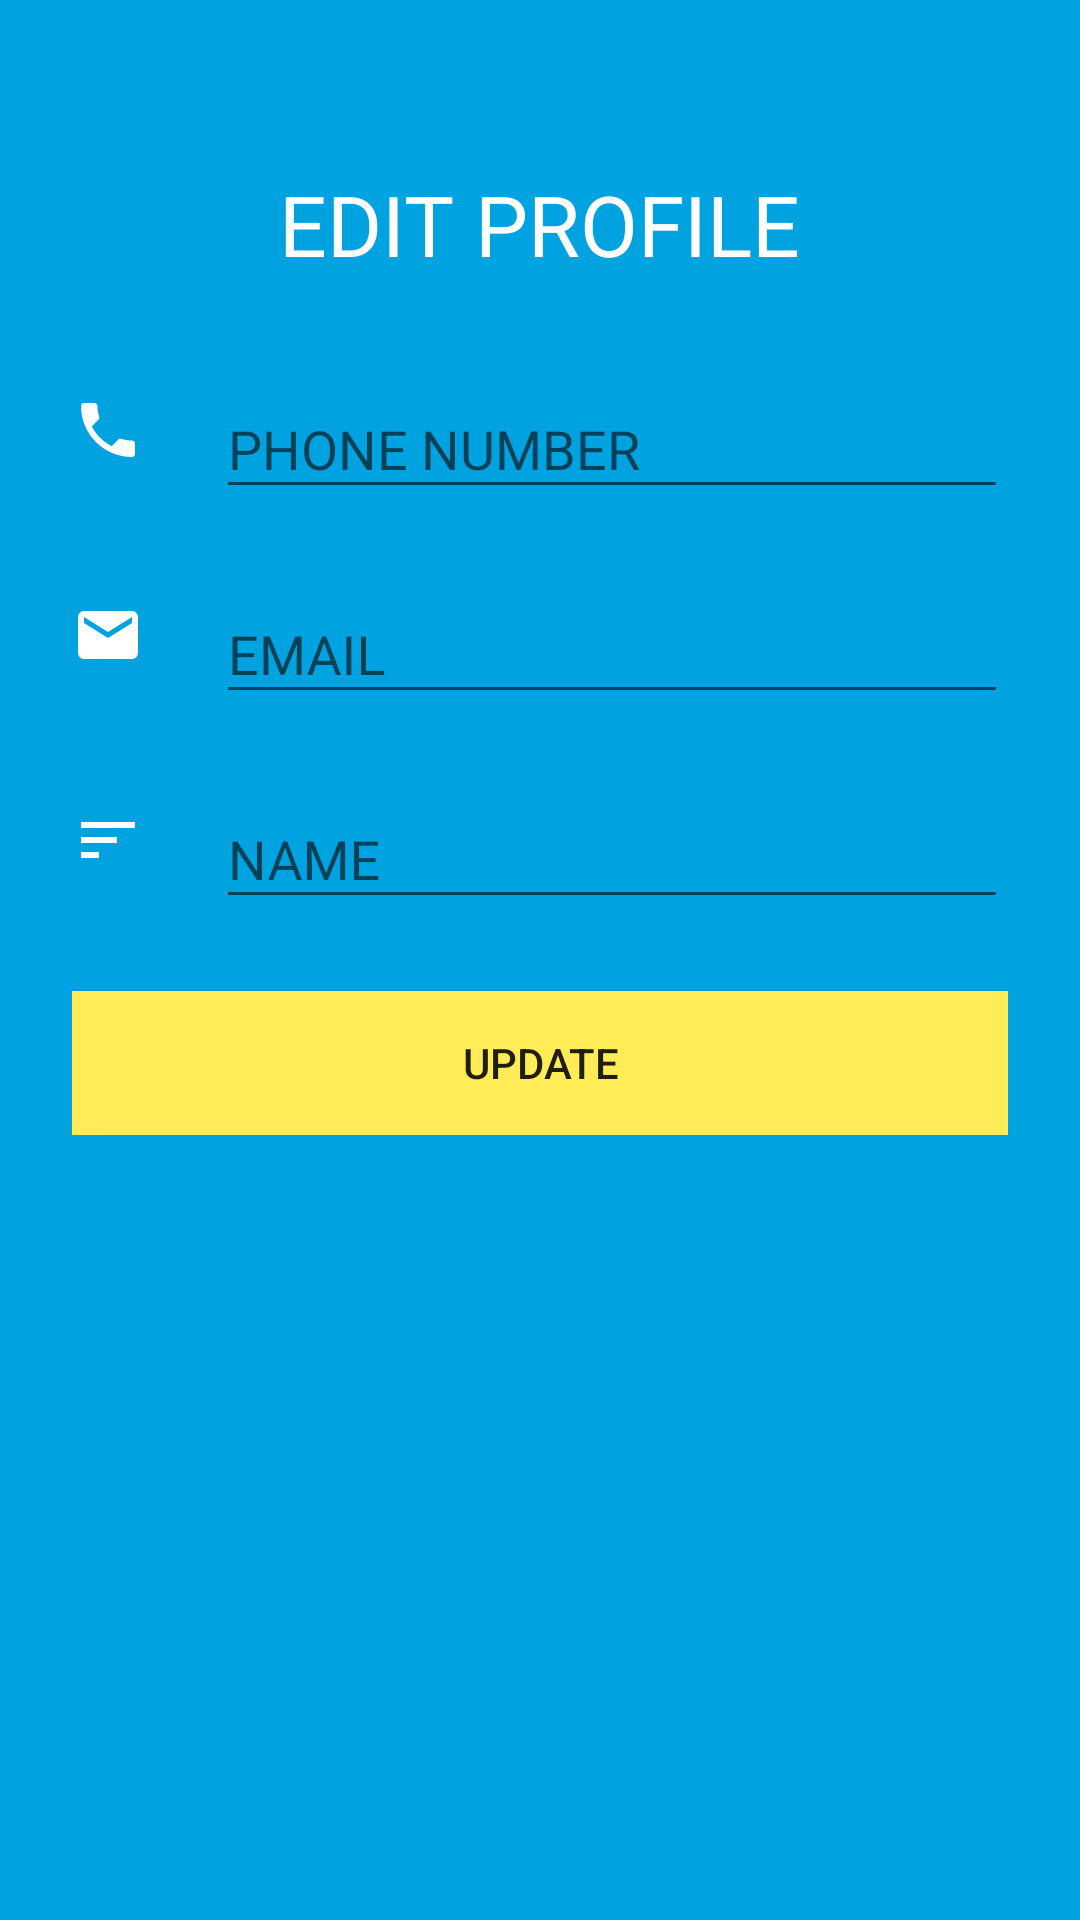

Named icons in this screenshot (1080*1920) and their bounding boxes, (x1, y1, x2, y2):
call: (81, 403, 135, 457)
